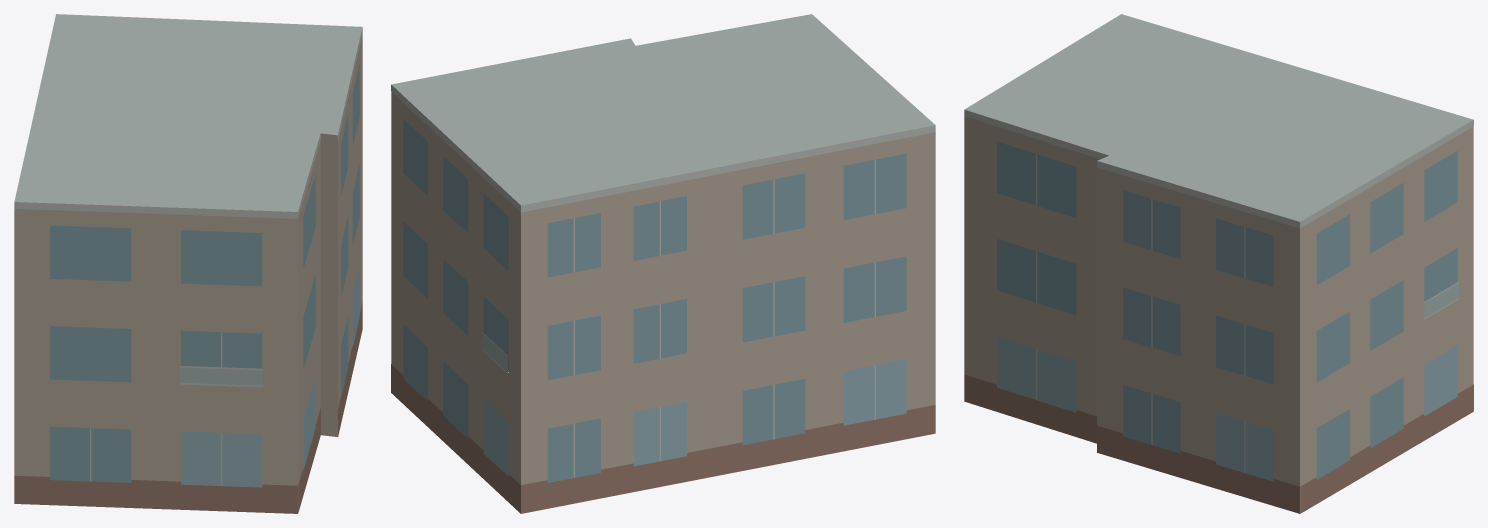
The model's file is survey-upis-32836775.glb.
3 renders of one model, left to right at view 1: azimuth 30°, elevation 25°; view 2: azimuth 150°, elevation 25°; view 3: azimuth 270°, elevation 25°, orthographic. The views are drawn at different scales.
Visible parts, largest first — view 1: survey-upis-32836775.tmp; view 2: survey-upis-32836775.tmp; view 3: survey-upis-32836775.tmp.
Boxes of the visible parts, x1=… form: survey-upis-32836775.tmp: x1=14, y1=14, x2=362, y2=513; survey-upis-32836775.tmp: x1=391, y1=14, x2=935, y2=513; survey-upis-32836775.tmp: x1=964, y1=14, x2=1473, y2=513.
Size of the model in its own units: 16.51 by 10.8 by 17.09.
